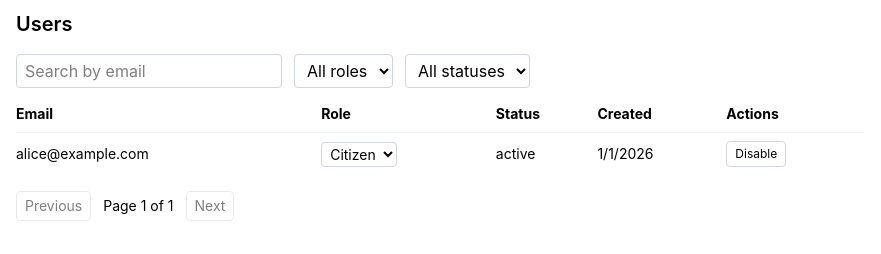
Test: Admin Users page actions › displays the specific backend-provided reason for a last-admin-violating attempt
The width and height of the screenshot is (881, 254).
Expected: the text "alice@example.com" is shown, x1=16 y1=132 x2=321 y2=175
Click the button "Disable" at {"x": 756, "y": 154}, box x1=726 y1=141 x2=786 y2=167
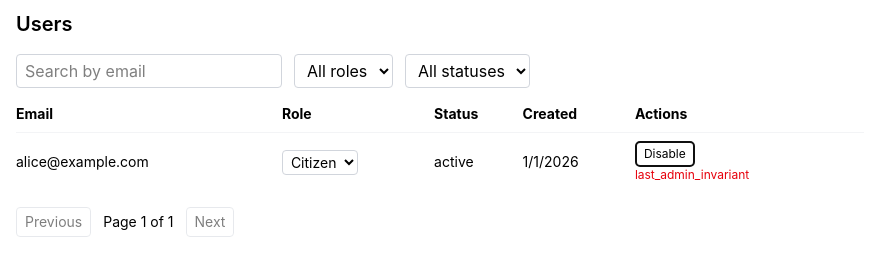
Expected: the text "last_admin_invariant" is shown, x1=635 y1=167 x2=749 y2=182
